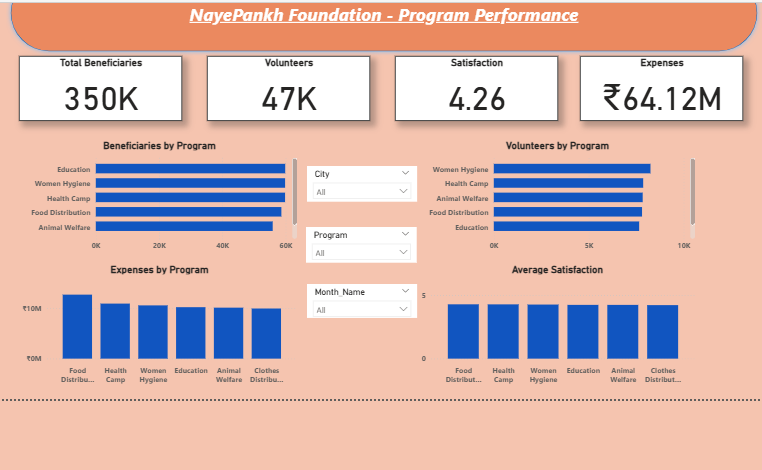

The dashboard page shown, as its layout file describes it:
{"tool":"powerbi","page":{"name":"Duplicate of Duplicate of Page 1","canvas":[1280,720],"ordinal":2},"visuals":[{"type":"shape","title":"EXECUTIVE DASHBOARD","box":[10.1,0,1269.9,144.5],"z":0},{"type":"card","title":"Total Beneficiaries","fields":{"Values":["Sum(feathers vw_monthly_summary.Total_Beneficiaries)"]},"box":[31.9,144.5,273.8,109.2],"z":1000},{"type":"card","title":"Volunteers ","fields":{"Values":["Sum(feathers vw_monthly_summary.Total_Volunteers)"]},"box":[347.7,144.5,273.8,109.2],"z":2000},{"type":"card","title":"Satisfaction ","fields":{"Values":["Avg(feathers NGO_Analytics.Satisfaction_Score)"]},"box":[663.5,144.5,273.8,109.2],"z":3000},{"type":"card","title":"Expenses","fields":{"Values":["Sum(feathers NGO_Analytics.Expenses_INR)"]},"box":[974.3,144.5,273.8,109.2],"z":4000},{"type":"barChart","title":"Beneficiaries by Program","fields":{"Y":["Sum(feathers NGO_Analytics.Beneficiaries)"],"Category":["feathers NGO_Analytics.Program"]},"box":[31.9,283.9,472,196.5],"z":5000},{"type":"barChart","title":"Volunteers by Program","fields":{"Y":["Sum(feathers NGO_Analytics.Volunteers)"],"Category":["feathers NGO_Analytics.Program"]},"box":[700.5,283.9,472,196.5],"z":6000},{"type":"clusteredColumnChart","title":"Expenses by Program","fields":{"Category":["feathers vw_impact_summary.Program"],"Y":["Sum(feathers NGO_Analytics.Expenses_INR)"]},"box":[31.9,492.2,472,211.7],"z":7000},{"type":"columnChart","title":"Average Satisfaction","fields":{"Category":["feathers NGO_Analytics.Program"],"Y":["Avg(feathers NGO_Analytics.Satisfaction_Score)"]},"box":[700.5,492.2,472,211.7],"z":8000},{"type":"slicer","fields":{"Values":["feathers NGO_Analytics.City"]},"box":[515.7,329.2,184.8,60.5],"z":9000},{"type":"slicer","fields":{"Values":["feathers vw_monthly_summary.Month_Name"]},"box":[515.7,527.5,184.8,57.1],"z":10000},{"type":"slicer","fields":{"Values":["feathers NGO_Analytics.Program"]},"box":[514,431.7,186.5,60.5],"z":11000}]}

Visuals, with their boxes on the page's 1280x720 design canvas (x1, y1, x2, y2). These are canvas units, not pixel positions in the 762x470 screenshot, which may show the page scaled, cropped or inside an application window:
"EXECUTIVE DASHBOARD" shape: {"left": 10, "top": 0, "right": 1280, "bottom": 144}
"Total Beneficiaries" card: {"left": 32, "top": 144, "right": 306, "bottom": 254}
"Volunteers " card: {"left": 348, "top": 144, "right": 622, "bottom": 254}
"Satisfaction " card: {"left": 664, "top": 144, "right": 937, "bottom": 254}
"Expenses" card: {"left": 974, "top": 144, "right": 1248, "bottom": 254}
"Beneficiaries by Program" barChart: {"left": 32, "top": 284, "right": 504, "bottom": 480}
"Volunteers by Program" barChart: {"left": 700, "top": 284, "right": 1172, "bottom": 480}
"Expenses by Program" clusteredColumnChart: {"left": 32, "top": 492, "right": 504, "bottom": 704}
"Average Satisfaction" columnChart: {"left": 700, "top": 492, "right": 1172, "bottom": 704}
slicer - feathers NGO_Analytics.City: {"left": 516, "top": 329, "right": 700, "bottom": 390}
slicer - feathers vw_monthly_summary.Month_Name: {"left": 516, "top": 528, "right": 700, "bottom": 585}
slicer - feathers NGO_Analytics.Program: {"left": 514, "top": 432, "right": 700, "bottom": 492}
